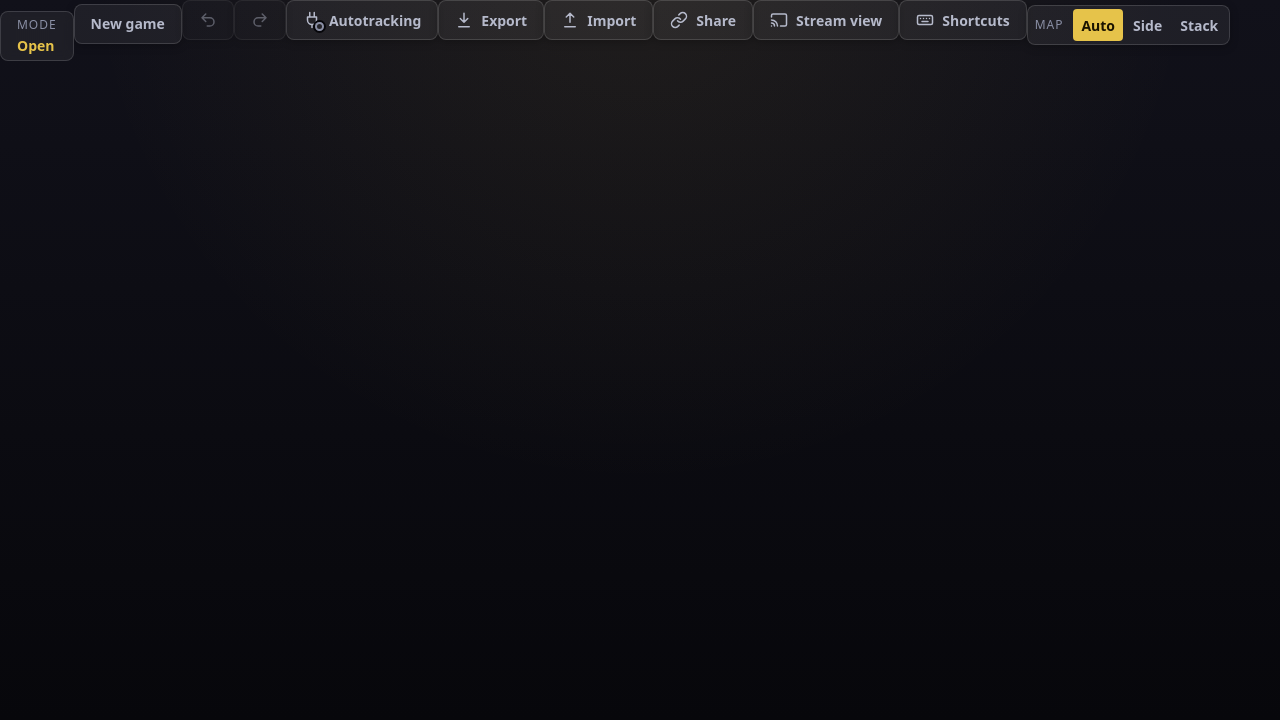
Test case: TrackerControls › opens a confirmation dialog instead of resetting immediately
Step 1. Click the button "New game" → click(128, 24), box [74, 4, 182, 44]
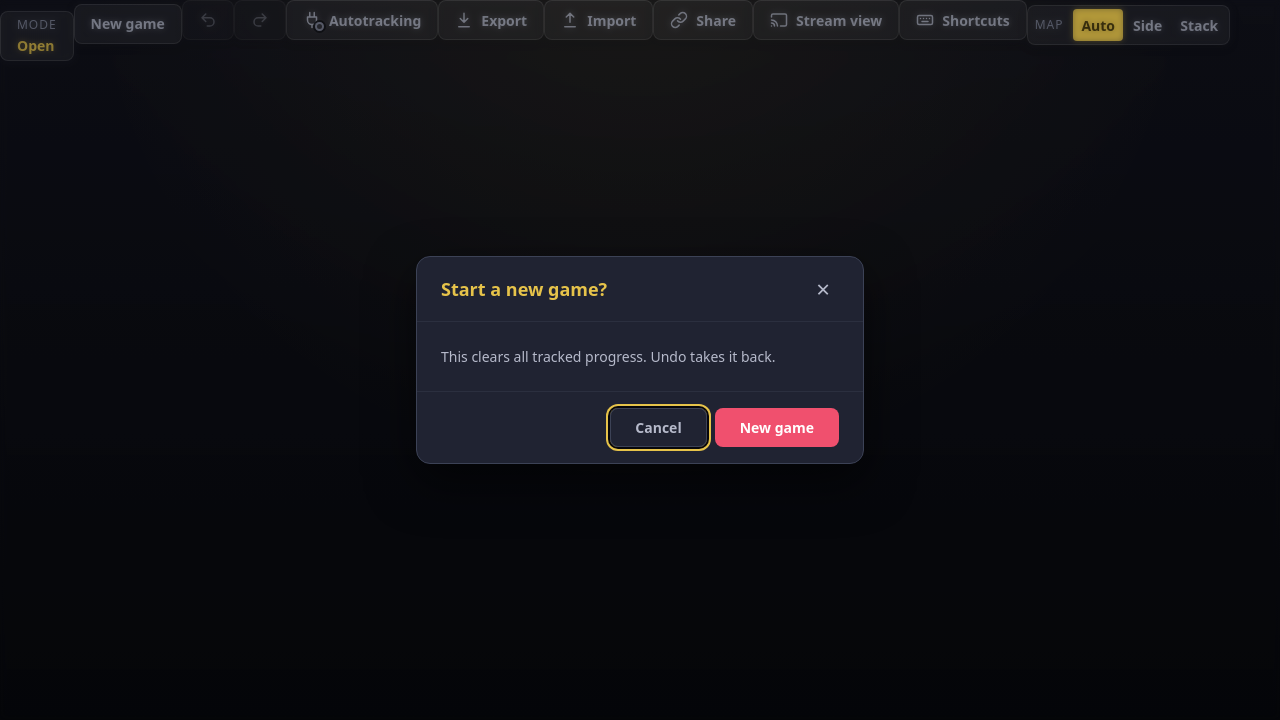
Expected: the dialog "Start a new game" is shown, [416, 256, 864, 464]
